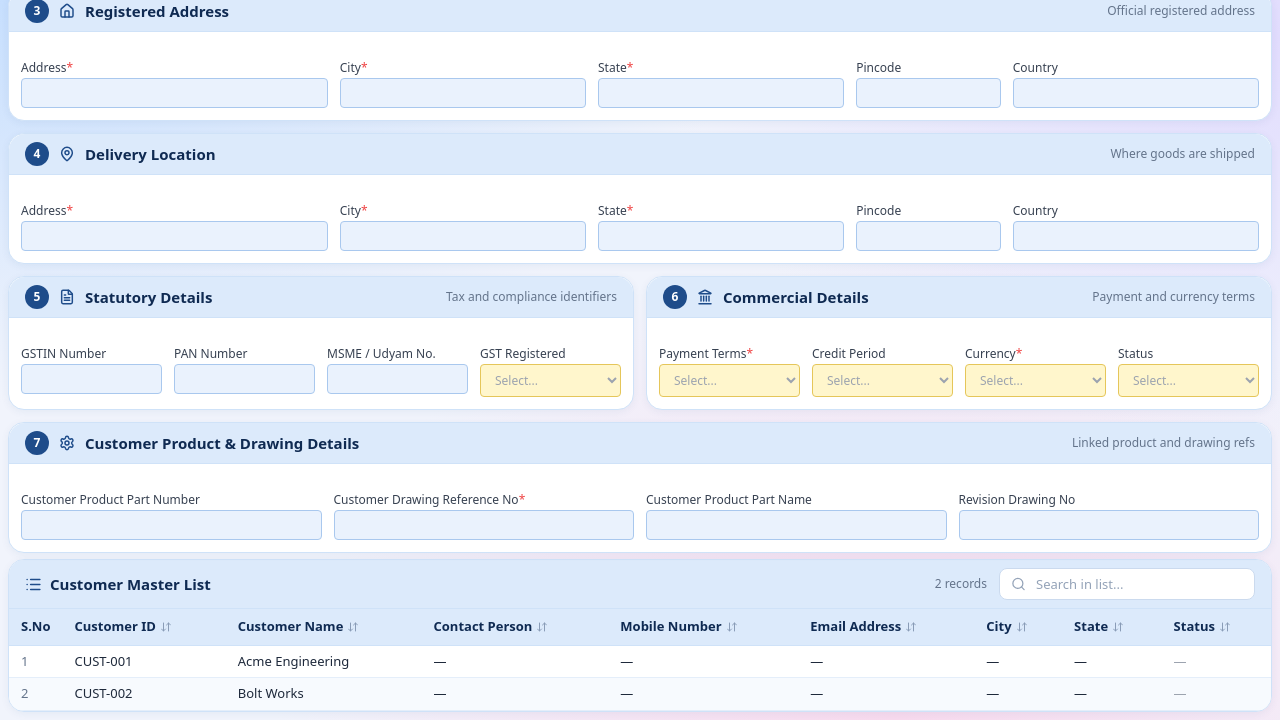
Test: Customer Master credit period › shows the saved value on edit, even one outside the built-ins
This screenshot has width=1280, height=720.
(page scrolled)
Click the text "CUST-001". click: (104, 660)
box: [62, 645, 226, 678]
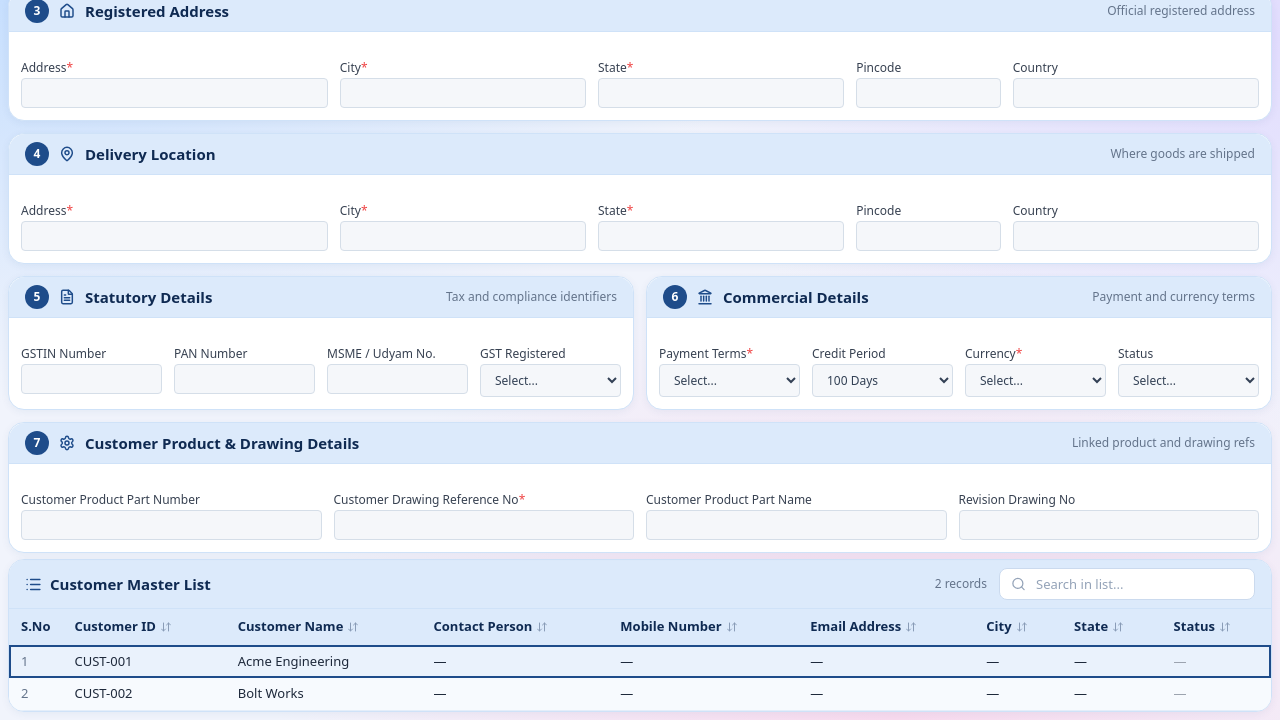
Expected: the dropdown labelled "Credit Period" shows "100 Days", [812, 364, 953, 397]
